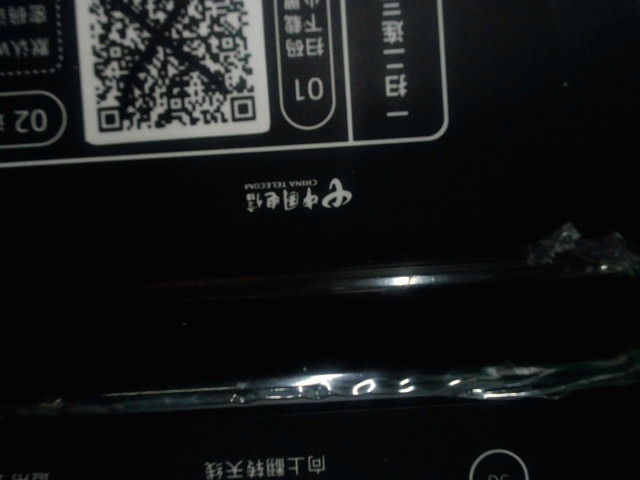AB_ChinaTelecom: (235, 174, 360, 215)
